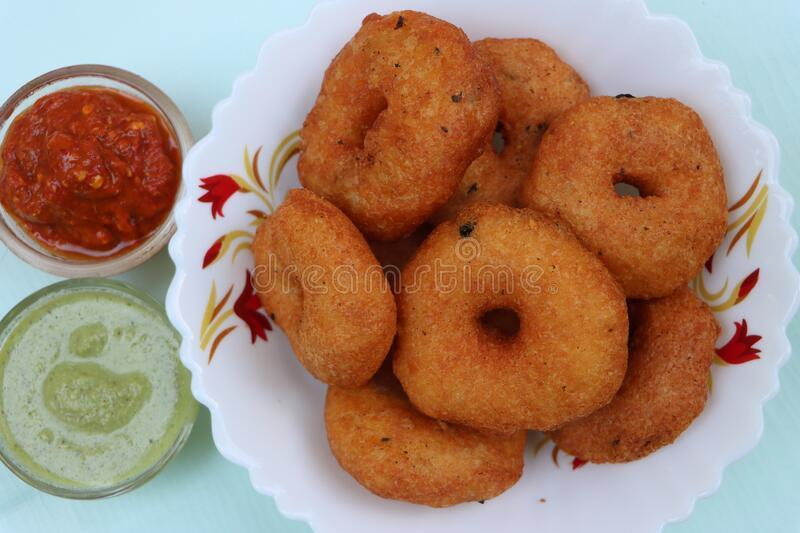mvada: (314, 46, 668, 458)
